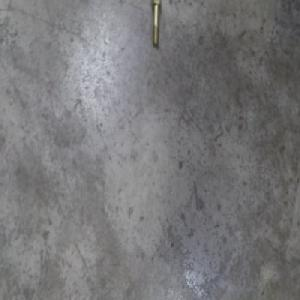Bolt: (149, 0, 162, 46)
